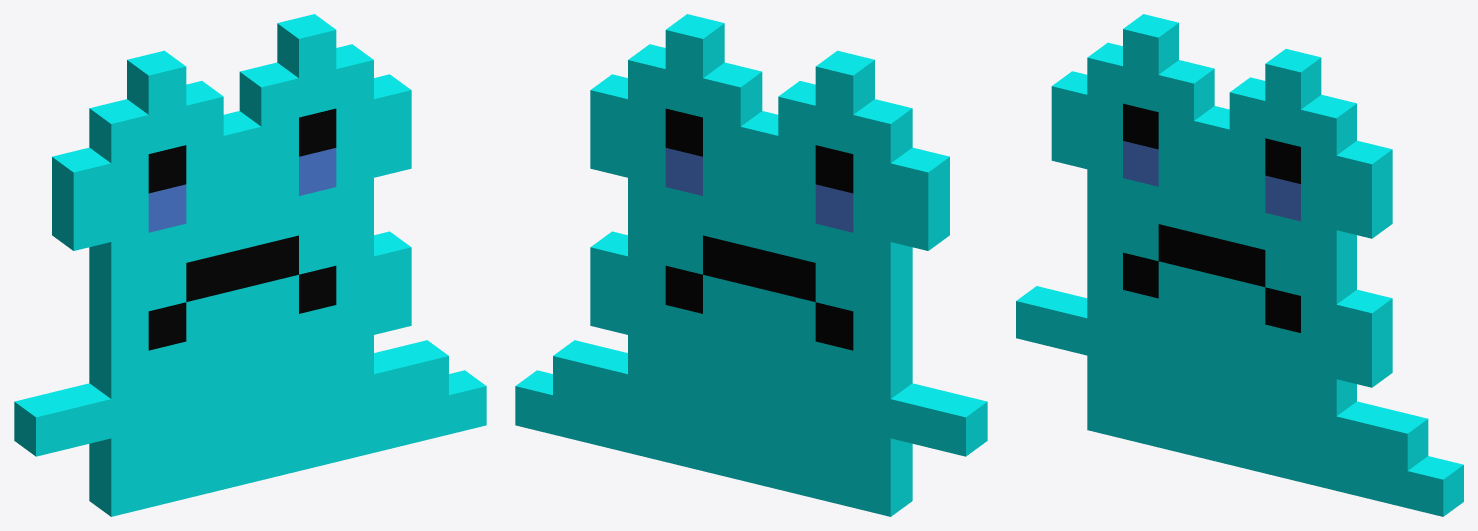
The model's file is ghost.obj.
3 renders of one model, left to right at view 1: azimuth 30°, elevation 25°; view 2: azimuth 150°, elevation 25°; view 3: azimuth 330°, elevation 25°, orthographic. The views are drawn at different scales.
Visible parts, largest first — view 1: ghost; view 2: ghost; view 3: ghost.
Part boxes in pixels (x1=…): ghost: x1=14, y1=14, x2=486, y2=516; ghost: x1=515, y1=14, x2=987, y2=516; ghost: x1=1016, y1=14, x2=1463, y2=516.
Bounding box in the file's own units: 12 × 11 × 1.
1 material, 1 textured.
